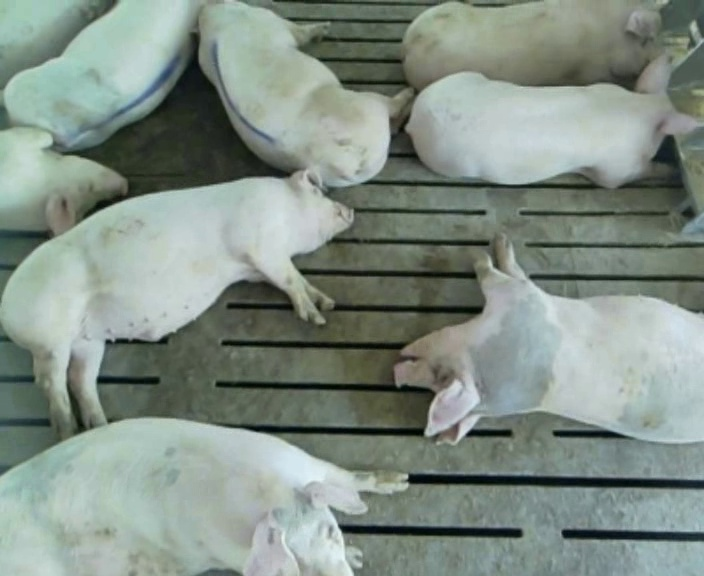pig: (0, 169, 352, 437), (394, 234, 703, 442), (0, 419, 406, 574), (199, 2, 412, 186), (406, 52, 696, 187), (4, 3, 201, 150), (401, 2, 663, 89), (0, 2, 111, 88)
